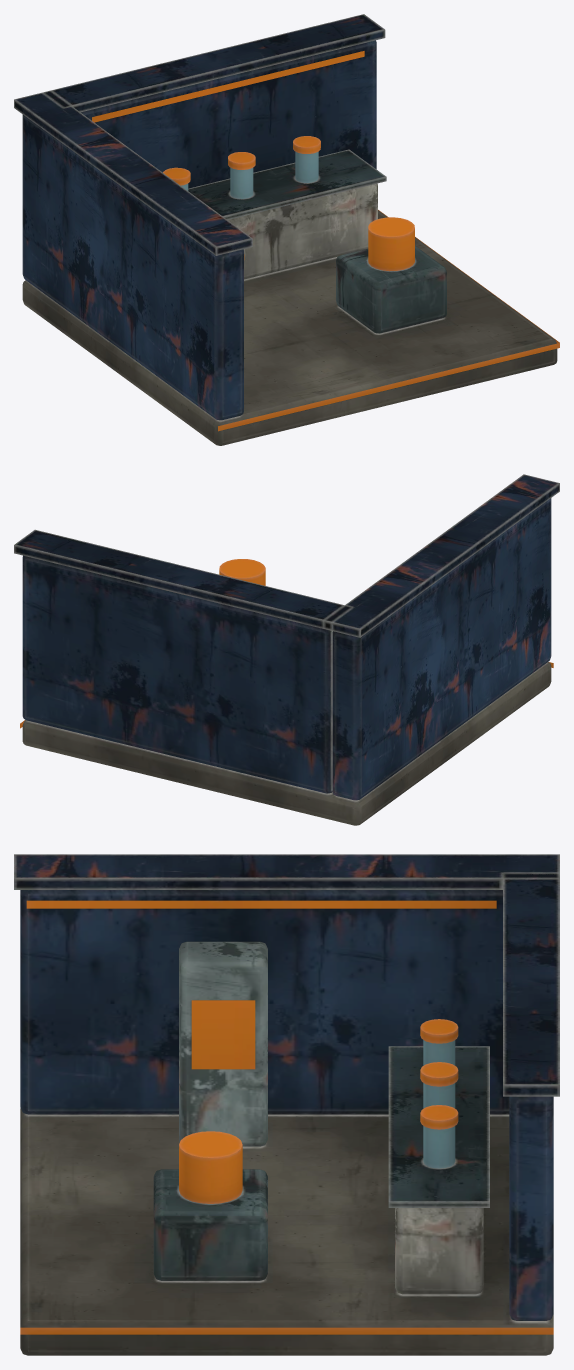
File: chemistry_lab.glb
3 views of the same model, one above another, from view 1: azimuth 30°, elevation 25°; view 2: azimuth 150°, elevation 25°; view 3: azimuth 270°, elevation 25° (orthographic). The views are drawn at different scales.
Parts seen in each view (by area): view 1: te_chemistry_lab; view 2: te_chemistry_lab; view 3: te_chemistry_lab.
Part boxes in pixels (x1,y1,x2,y2): te_chemistry_lab: (14,14,559,445); te_chemistry_lab: (14,474,559,825); te_chemistry_lab: (14,854,559,1355).
Size of the model in its own units: 0.86 by 0.48 by 0.86.
Materials: 1 (1 with a texture image).
